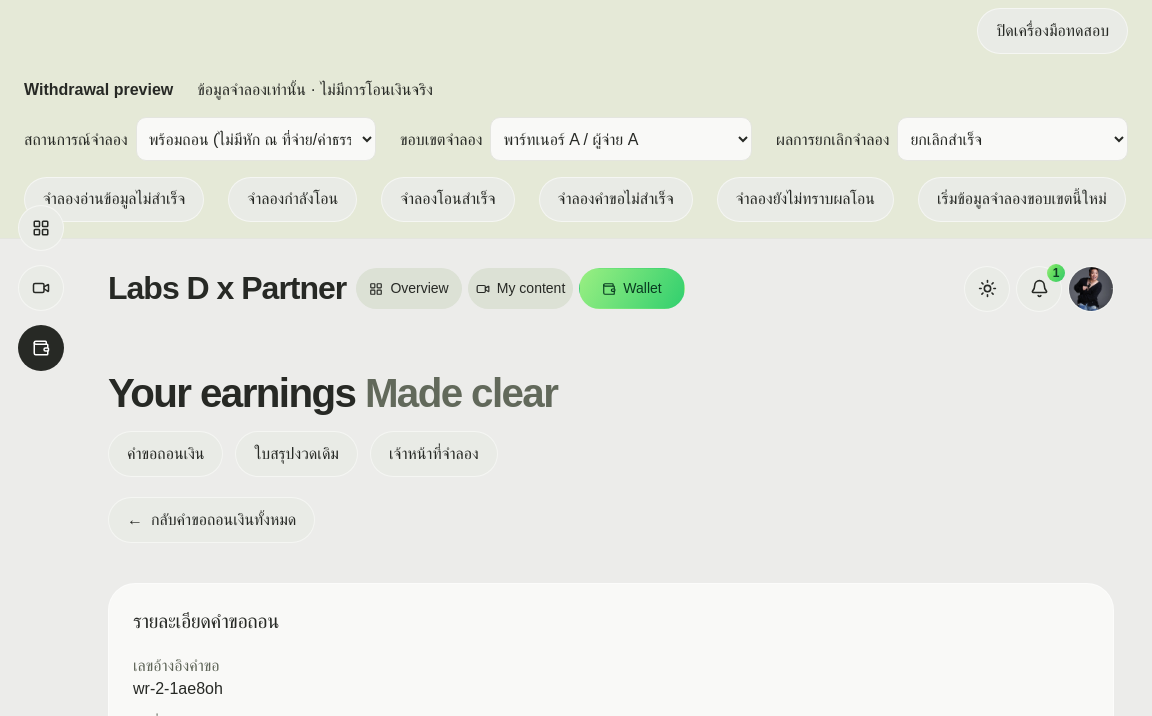
WU02 actual-runtime preview composition › shows the actual adapter cancellation mode race without inventing payment success
Select "เริ่มดำเนินการก่อนยกเลิก" in the dropdown labelled "ผลการยกเลิกจำลอง" at (1013, 139), box [897,117,1128,161]
(page scrolled)
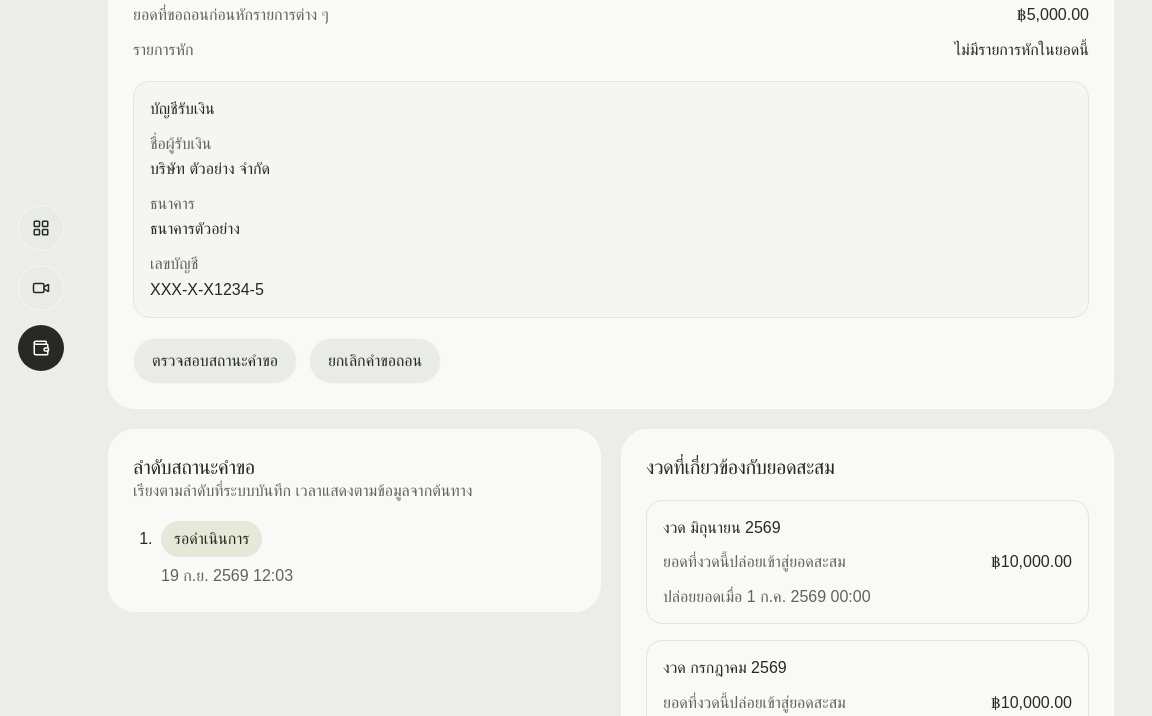
Click the button "ยกเลิกคำขอถอน".
click(375, 361)  # box [309,338,441,384]
(page scrolled)
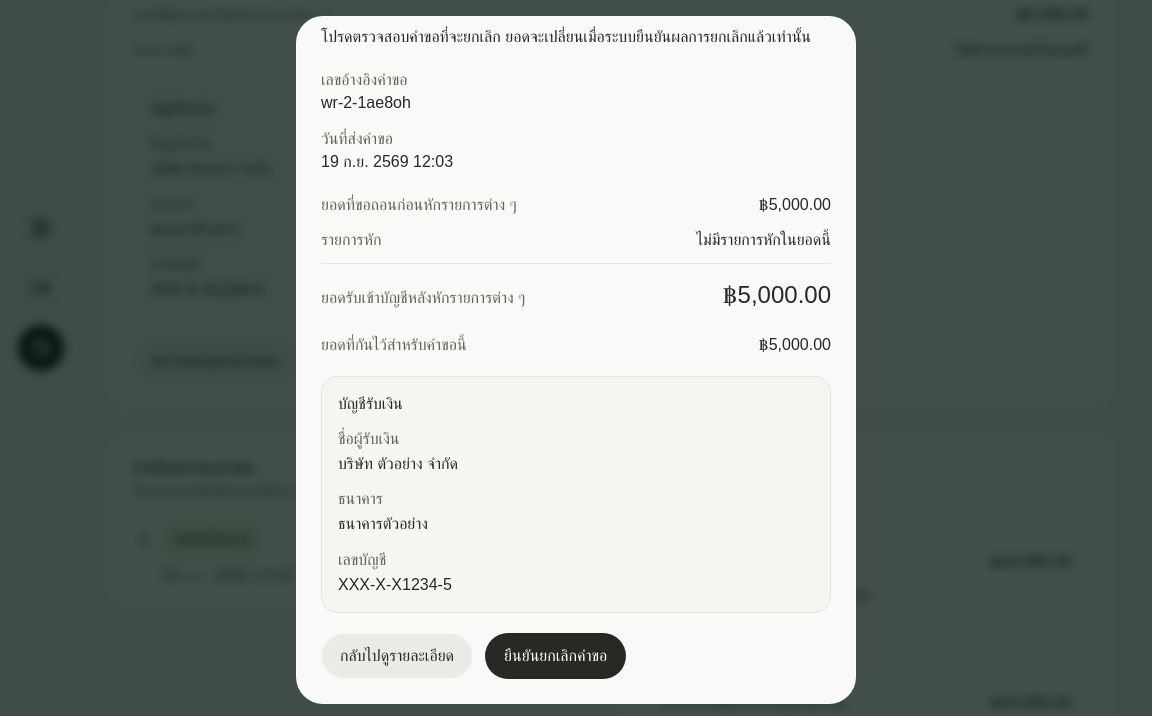
Click the button "ยืนยันยกเลิกคำขอ".
click(556, 656)  # box [485,633,626,679]
(page scrolled)
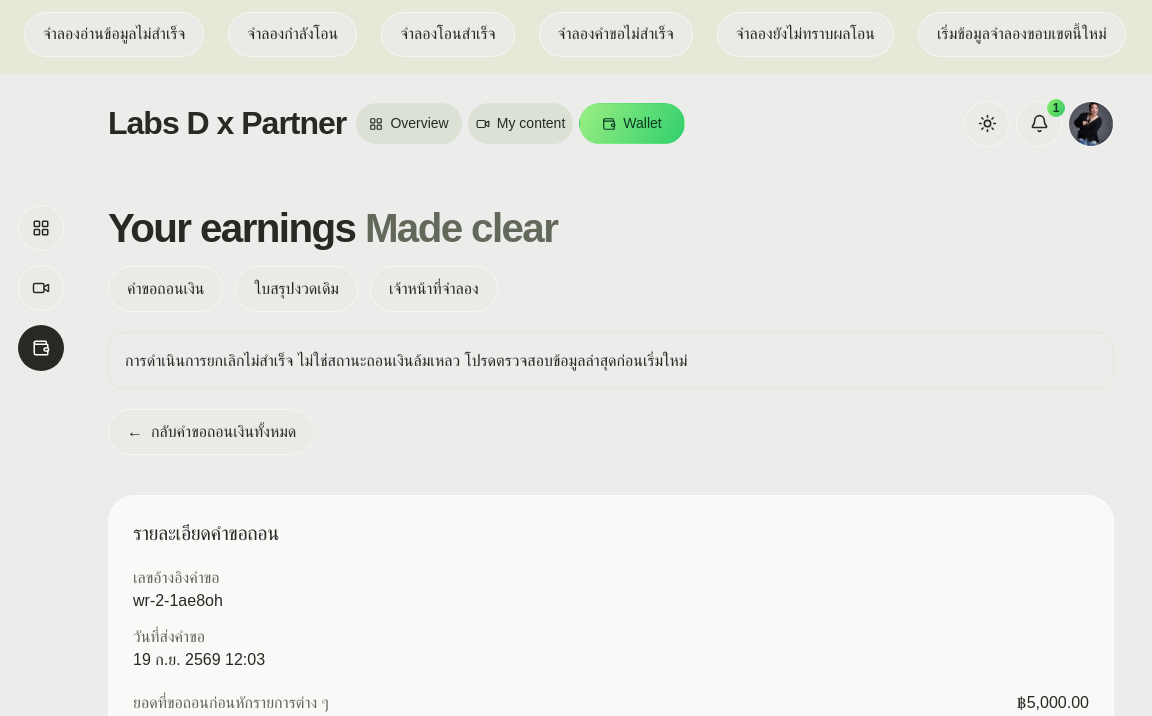
Check: the text "การดำเนินการยกเลิกไม่สำเร็จ ไม่ใช่สถานะถอนเงินล้มเหลว" is shown, box [125,352,688,369]
